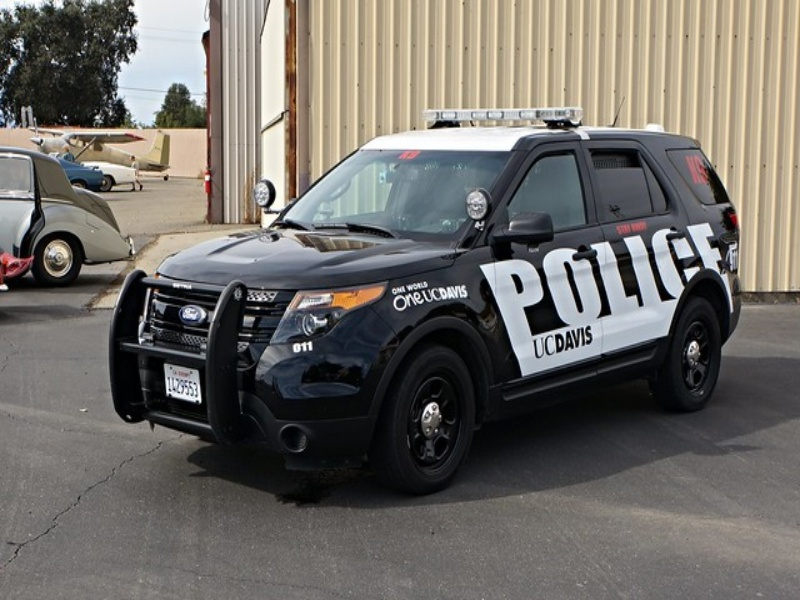policecar: (100, 99, 755, 529)
